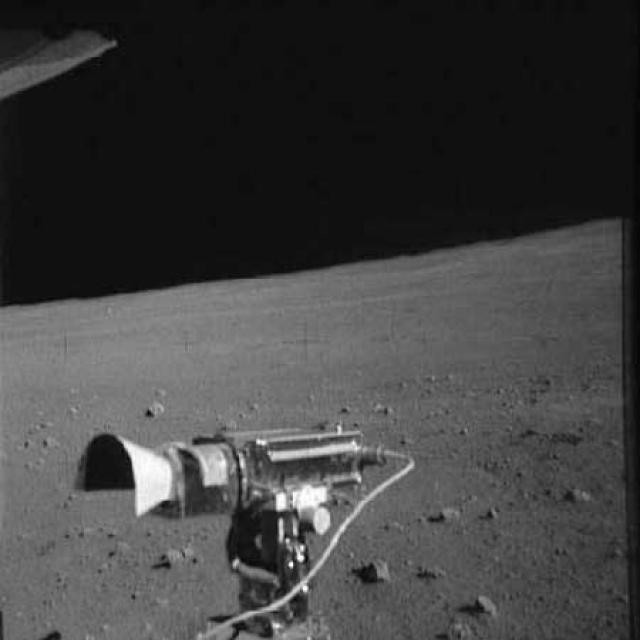artifact: (46, 416, 414, 639), (0, 19, 132, 98)
rock: (108, 531, 142, 566), (465, 589, 501, 621), (164, 535, 193, 571), (138, 397, 180, 421), (355, 555, 389, 584), (35, 430, 70, 456), (442, 618, 478, 639), (420, 556, 444, 584), (435, 502, 461, 526), (372, 400, 406, 418), (565, 482, 588, 507), (482, 506, 507, 522), (153, 382, 170, 397)
